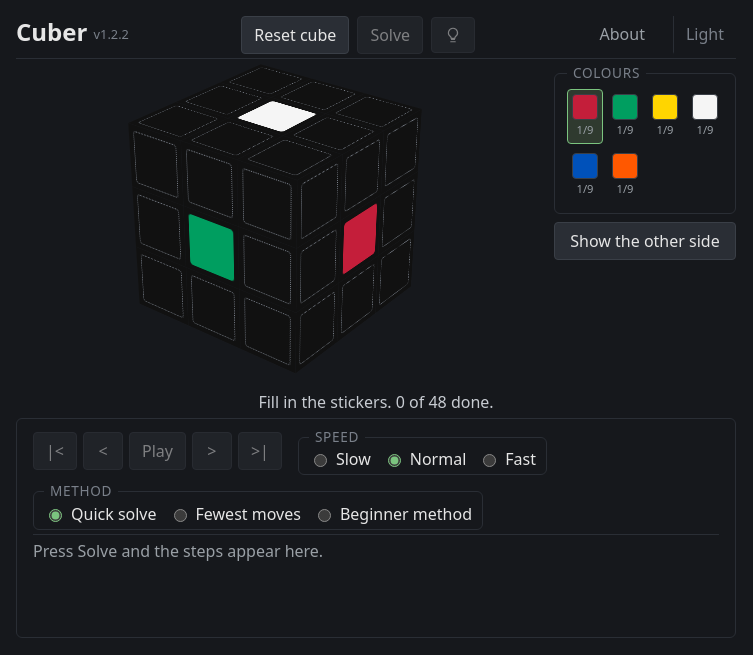
Scenario: validation on screen › marks two centres of one colour
Click the button named "white": x=705, y=117 [687,89,723,144]
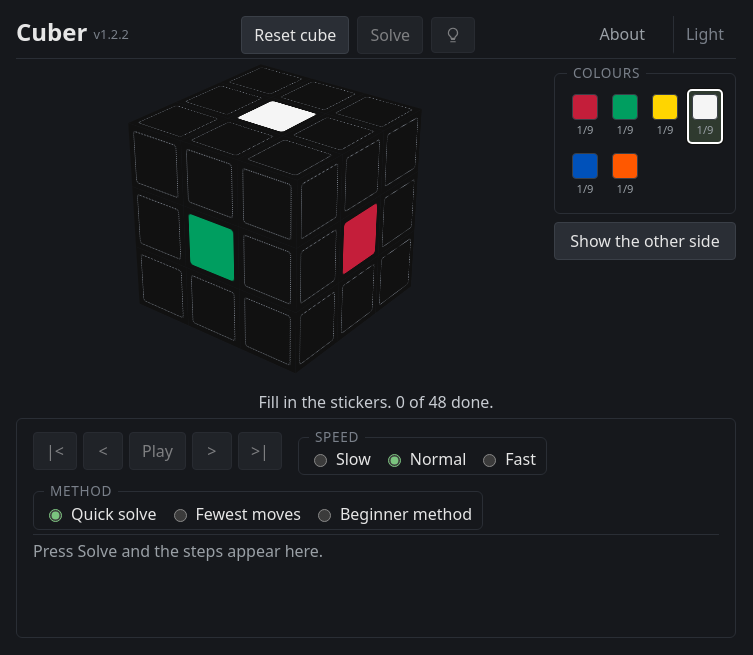
Click the button named "the right face, row 2, column 2, red": x=360, y=238 [339,194,381,282]
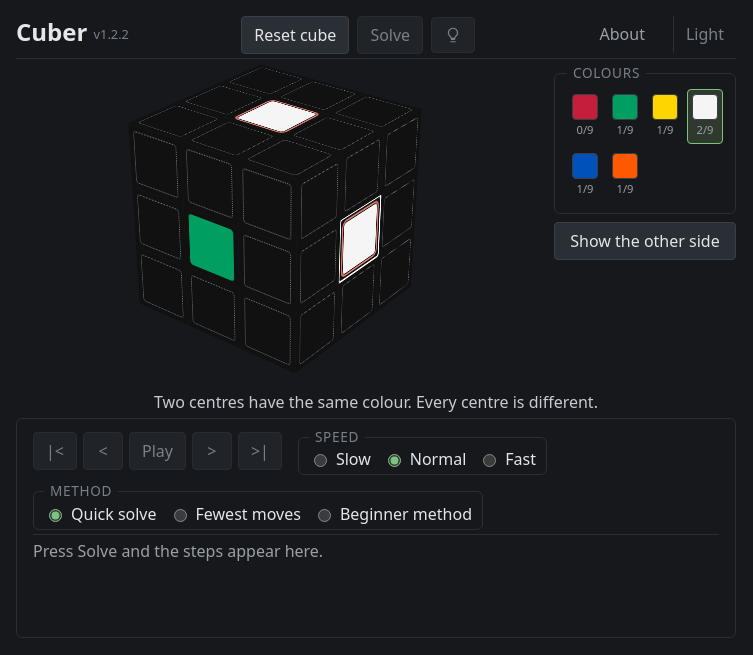
Expected: the message reads "Two centres have the same colour. Every centre is different.", [154,391,598,413]
